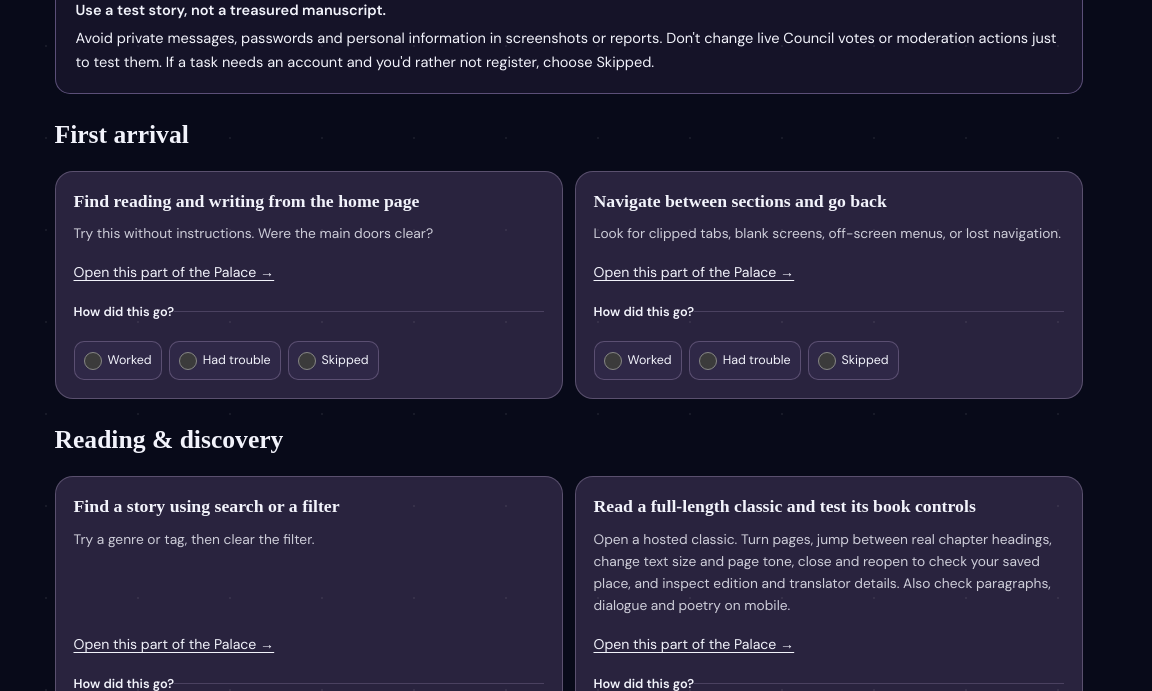
Test: retains explicit trouble states, structured issues and notes on the device
(page scrolled)
Click the 1st radio button labelled "Had trouble" at (188, 361), box x1=179 y1=352 x2=197 y2=370
(page scrolled)
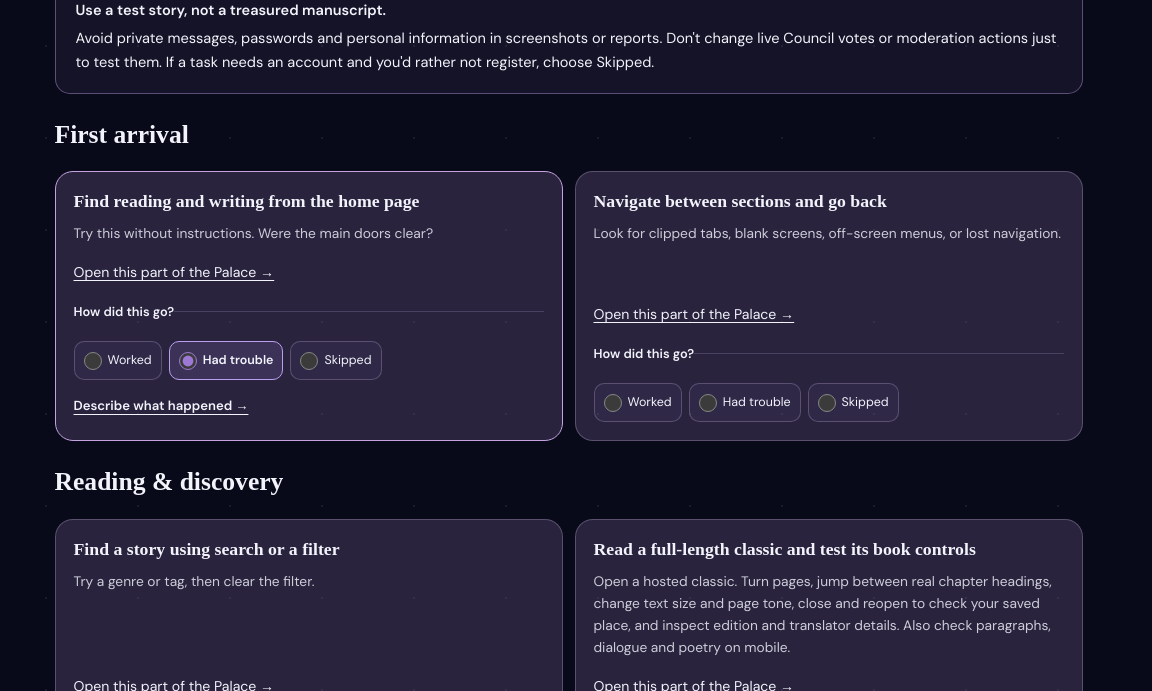
expect the button "Describe what happened →" is shown: met
Click the button "Describe what happened →" at (161, 406), box x1=74 y1=390 x2=248 y2=422
(page scrolled)
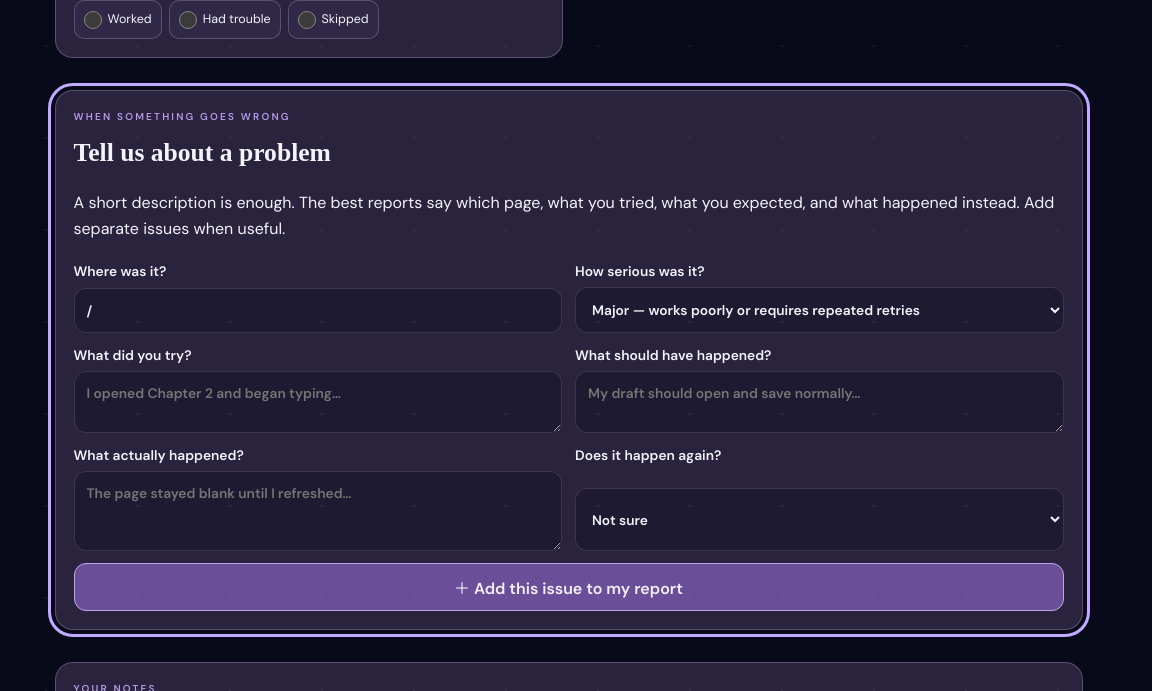
Type "The sidebar disappeared" into the text box with placeholder "The page stayed blank until I refreshed…" at (318, 511), box x1=74 y1=471 x2=562 y2=551
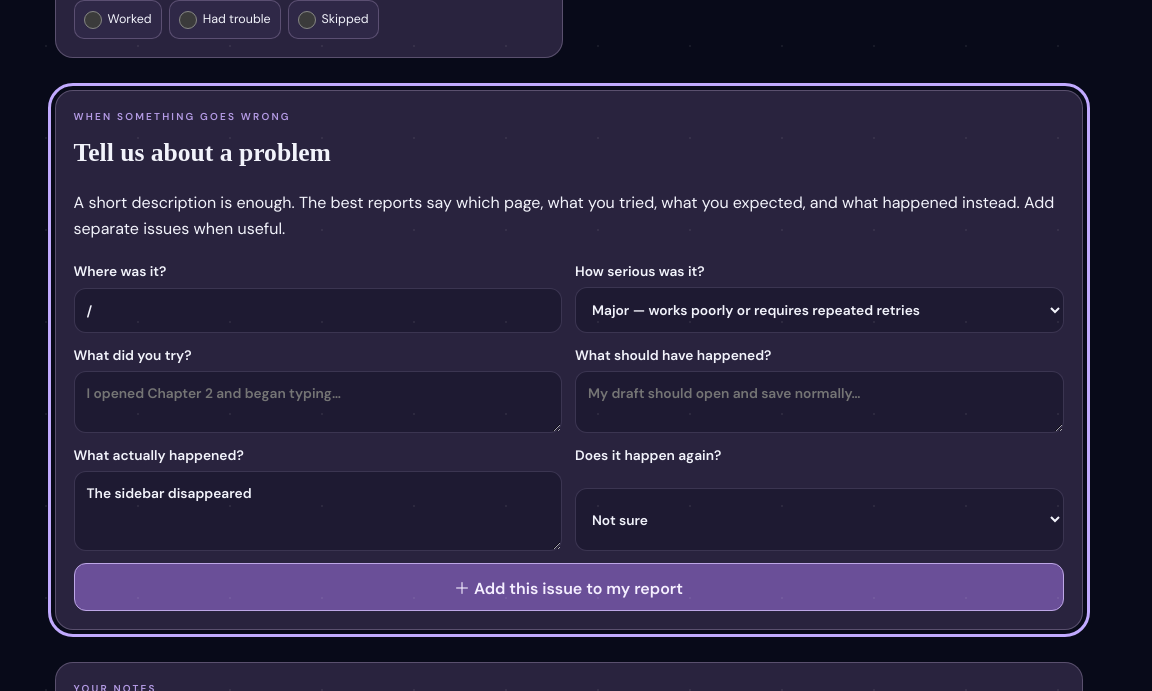
Click the button "＋ Add this issue to my report" at (568, 587), box x1=74 y1=563 x2=1064 y2=611
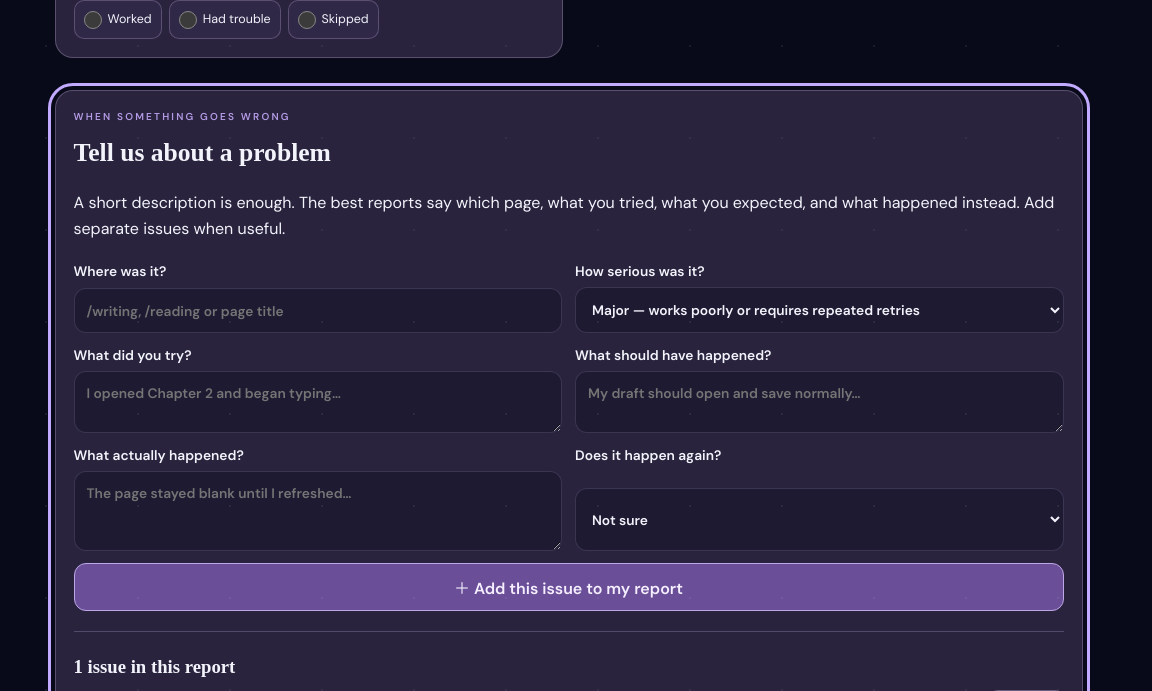
expect the heading "1 issue in this report" is shown: met, box x1=74 y1=656 x2=235 y2=677
